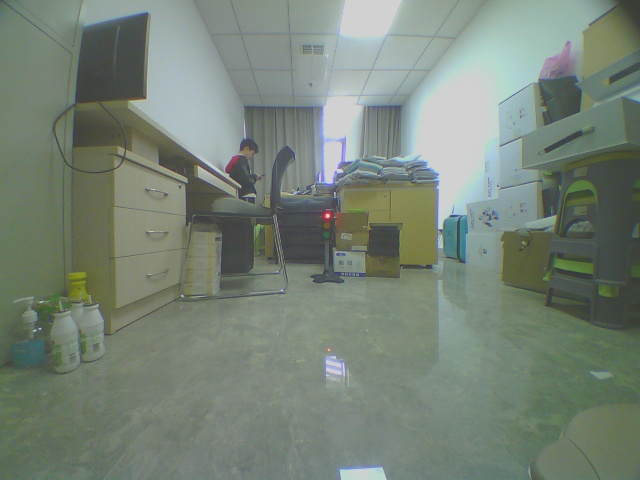Red: (323, 209, 332, 241)
